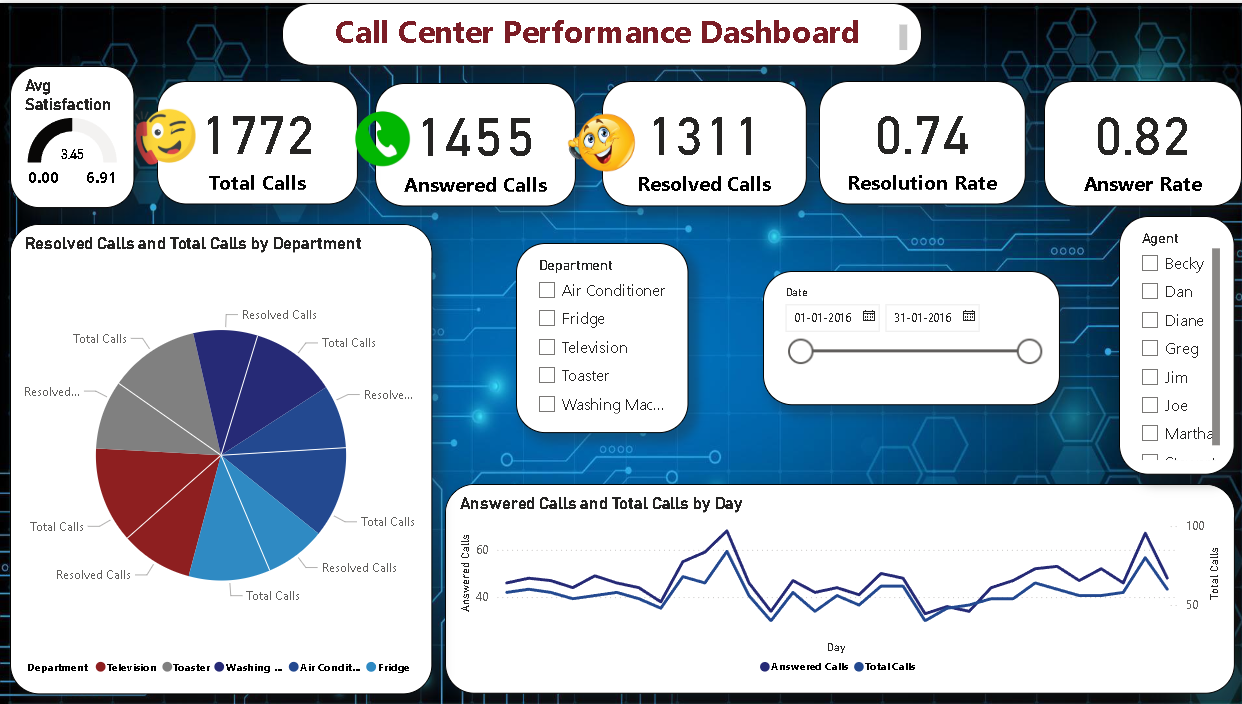

Layout of this report page (visuals, bound fields, positions):
{"tool":"powerbi","page":{"name":"Dashboard","canvas":[1280,720],"ordinal":0},"visuals":[{"type":"textbox","box":[289,0,653,64],"z":1000},{"type":"card","fields":{"Values":["CallsData.Answered Calls"]},"box":[383.7,81.5,205.4,126.1],"z":2000},{"type":"card","fields":{"Values":["CallsData.Total Calls"]},"box":[160.9,79.3,205.4,126.1],"z":3000},{"type":"image","box":[127.2,101.1,84.8,70.7],"z":4000},{"type":"image","box":[353.3,97.8,77.2,78.3],"z":5000},{"type":"card","fields":{"Values":["CallsData.Resolved Calls"]},"box":[615.2,79.3,208.7,128.3],"z":6000},{"type":"image","box":[550,67.4,129.3,150],"z":7000},{"type":"card","fields":{"Values":["CallsData.Resolution Rate"]},"box":[837,79.3,210.9,126.1],"z":8000},{"type":"card","fields":{"Values":["CallsData.Answer Rate"]},"box":[1066.3,79.3,202.2,128.3],"z":9000},{"type":"lineChart","fields":{"Category":["CallsData.Date.Variation.Date Hierarchy.Day"],"Y":["CallsData.Answered Calls"],"Y2":["CallsData.Total Calls"]},"box":[455.1,490.8,806.1,214.3],"z":10000},{"type":"slicer","fields":{"Values":["CallsData.Date"]},"box":[779.6,273.5,303.1,136.7],"z":11000},{"type":"gauge","fields":{"Y":["CallsData.Avg Satisfaction"]},"box":[10.9,64.1,127.2,144.6],"z":12000},{"type":"slicer","fields":{"Values":["CallsData.Agent"]},"box":[1142.9,217.3,118.4,264.3],"z":12001},{"type":"pieChart","fields":{"Category":["CallsData.Department"],"Y":["CallsData.Resolved Calls","CallsData.Total Calls"]},"box":[11.2,225.5,430.6,479.6],"z":12002},{"type":"slicer","fields":{"Values":["CallsData.Department"]},"box":[527.6,244.9,175.5,193.9],"z":12003}]}

Visuals, with their boxes in screenshot pixels (x1, y1, x2, y2), scaled from the page's 1280x720 canvas onto the 1242x704 screenshot:
textbox: <region>280, 0, 914, 63</region>
card - CallsData.Answered Calls: <region>372, 80, 572, 203</region>
card - CallsData.Total Calls: <region>156, 78, 355, 201</region>
image: <region>123, 99, 206, 168</region>
image: <region>343, 96, 418, 172</region>
card - CallsData.Resolved Calls: <region>597, 78, 799, 203</region>
image: <region>534, 66, 659, 213</region>
card - CallsData.Resolution Rate: <region>812, 78, 1017, 201</region>
card - CallsData.Answer Rate: <region>1035, 78, 1231, 203</region>
lineChart - CallsData.Date.Variation.Date Hierarchy.Day x CallsData.Answered Calls: <region>442, 480, 1224, 689</region>
slicer - CallsData.Date: <region>756, 267, 1051, 401</region>
gauge - CallsData.Avg Satisfaction: <region>11, 63, 134, 204</region>
slicer - CallsData.Agent: <region>1109, 212, 1224, 471</region>
pieChart - CallsData.Department x CallsData.Resolved Calls: <region>11, 220, 429, 689</region>
slicer - CallsData.Department: <region>512, 239, 682, 429</region>
